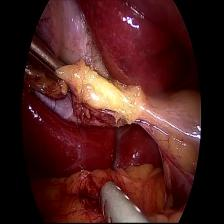Grasper: (26, 37, 68, 89)
Irrigator: (98, 176, 154, 224)
